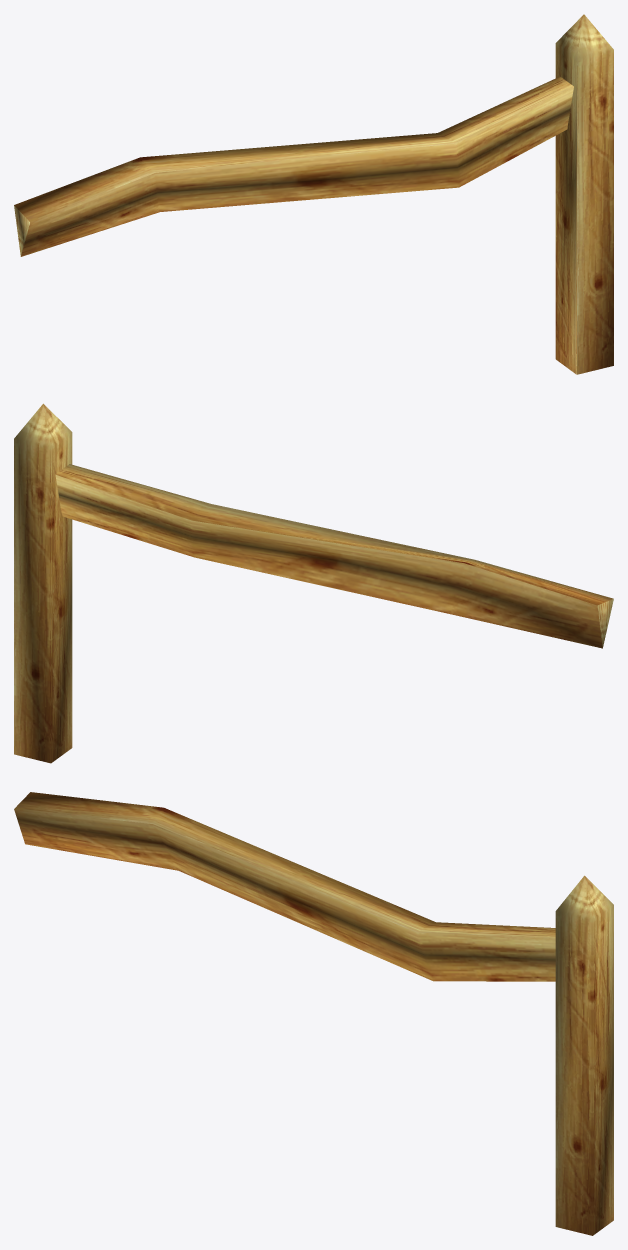
Rendered from elwynnfencetop.glb.
3 renders of one model, top to bottom at view 1: azimuth 30°, elevation 25°; view 2: azimuth 150°, elevation 25°; view 3: azimuth 330°, elevation 25°, orthographic.
Size of the model in its own units: 4.3 by 2.46 by 0.3993.
Materials: 1 (1 with a texture image).
